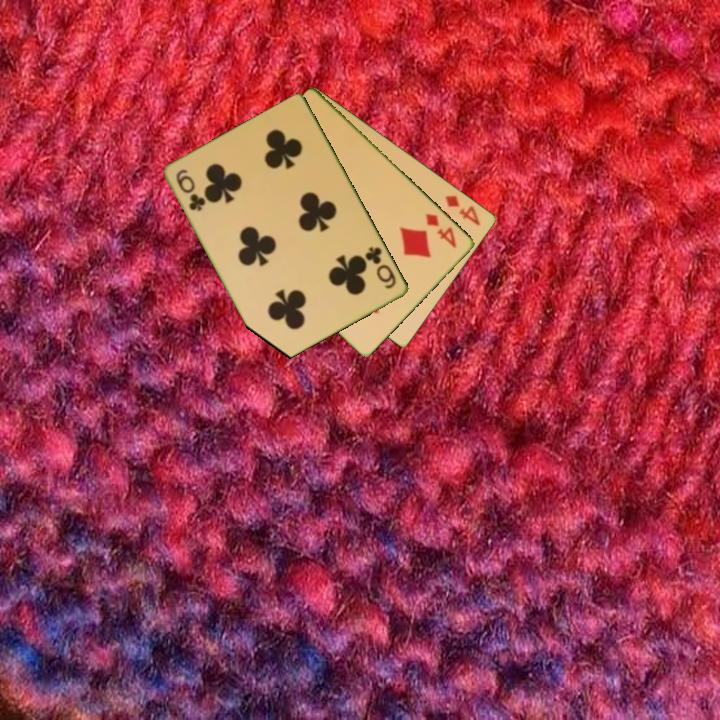4d: (422, 210, 460, 251), (442, 192, 484, 229)
6c: (362, 243, 399, 292), (173, 166, 208, 214)
